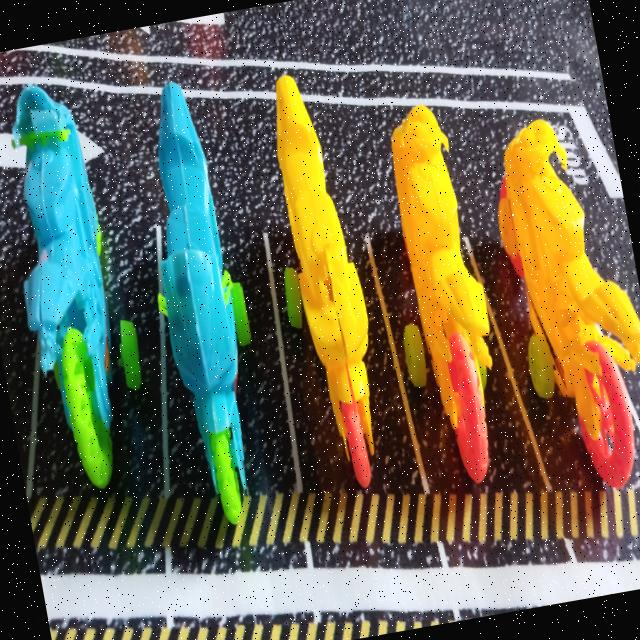occupied: (371, 106, 545, 494), (12, 85, 167, 495), (270, 75, 422, 493), (479, 120, 640, 491), (158, 83, 295, 518)
